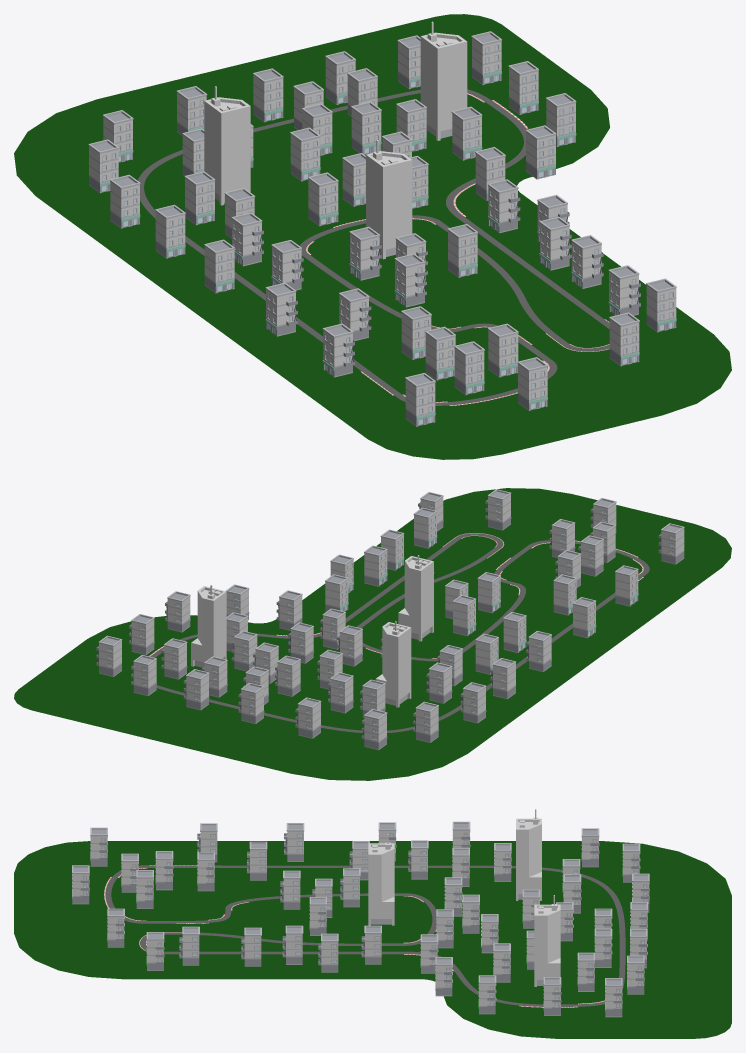
Rendered from track.glb.
3 views of the same model, one above another, from view 1: azimuth 30°, elevation 25°; view 2: azimuth 150°, elevation 25°; view 3: azimuth 270°, elevation 25° (orthographic). The views are drawn at different scales.
Visible parts, largest first — view 1: Ground, Track, low_buildingB.001, low_buildingB.002, low_buildingB, large_buildingC.025, large_buildingC.026, large_buildingC.002, large_buildingC.012, large_buildingC.021, large_buildingC.036, large_buildingC.037 (+41 smaller); view 2: Ground, Track, low_buildingB, low_buildingB.002, low_buildingB.001, large_buildingC.039, large_buildingC.034, large_buildingC.050, large_buildingC.009, large_buildingC.049, large_buildingC.035, large_buildingC.036 (+43 smaller); view 3: Ground, Track, low_buildingB, low_buildingB.001, low_buildingB.002, large_buildingC.044, large_buildingC.021, large_buildingC.025, large_buildingC.043, large_buildingC.024, large_buildingC.026, large_buildingC.018 (+41 smaller).
Part boxes in pixels (x1,y1,x2,y2): Ground: [14, 14, 731, 459]; Track: [137, 89, 609, 405]; low_buildingB.001: [420, 21, 467, 140]; low_buildingB.002: [204, 86, 250, 205]; low_buildingB: [366, 140, 412, 259]; large_buildingC.025: [571, 235, 603, 288]; large_buildingC.026: [488, 179, 520, 233]; large_buildingC.002: [308, 172, 338, 226]; large_buildingC.012: [253, 68, 283, 122]; large_buildingC.021: [394, 253, 426, 307]; large_buildingC.036: [204, 239, 234, 293]; large_buildingC.037: [265, 282, 297, 336]; Ground: [14, 488, 731, 780]; Track: [149, 533, 649, 732]; low_buildingB: [398, 555, 433, 641]; low_buildingB.002: [375, 621, 411, 707]; low_buildingB.001: [191, 585, 226, 667]; large_buildingC.039: [658, 523, 684, 564]; large_buildingC.034: [328, 672, 353, 713]; large_buildingC.050: [165, 591, 190, 632]; large_buildingC.009: [275, 655, 300, 696]; large_buildingC.049: [129, 614, 154, 655]; large_buildingC.035: [131, 655, 156, 695]; large_buildingC.036: [526, 630, 551, 671]; Ground: [14, 841, 731, 1038]; Track: [104, 865, 625, 1007]; low_buildingB: [368, 834, 394, 925]; low_buildingB.001: [534, 895, 560, 986]; low_buildingB.002: [516, 809, 541, 900]; large_buildingC.044: [318, 933, 338, 972]; large_buildingC.021: [280, 870, 300, 909]; large_buildingC.025: [241, 927, 261, 966]; large_buildingC.043: [179, 926, 199, 965]; large_buildingC.024: [282, 925, 303, 964]; large_buildingC.026: [361, 925, 381, 964]; large_buildingC.018: [247, 841, 267, 880].
Size of the model in its own units: 713 by 140 by 1093.
